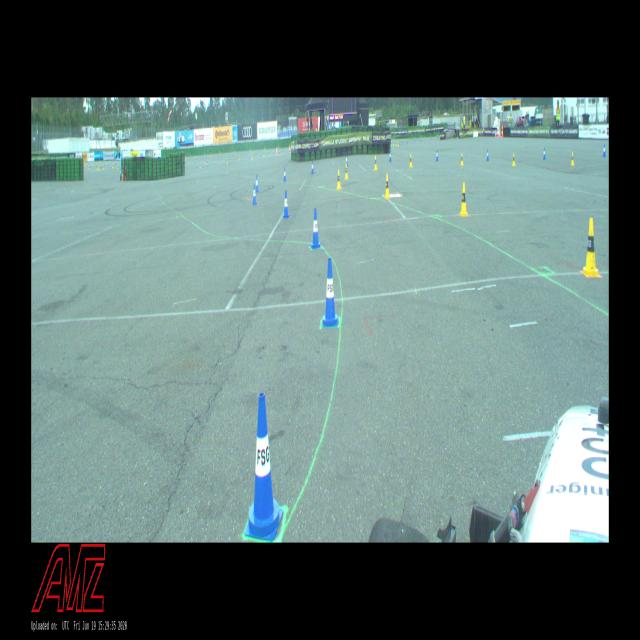blue_cone: (245, 393, 283, 541), (322, 258, 338, 327), (312, 209, 321, 249), (283, 190, 289, 218), (252, 183, 257, 204), (256, 175, 259, 192), (311, 161, 314, 174), (603, 144, 606, 157), (543, 147, 546, 159), (389, 150, 392, 162), (284, 167, 286, 182), (436, 150, 438, 160), (486, 150, 488, 160)
yellow_cone: (581, 218, 600, 277), (460, 182, 468, 216), (385, 173, 390, 198), (337, 169, 341, 190), (344, 163, 348, 179), (374, 155, 377, 171), (571, 151, 574, 166), (461, 152, 464, 166), (512, 152, 515, 166), (410, 154, 412, 168)
